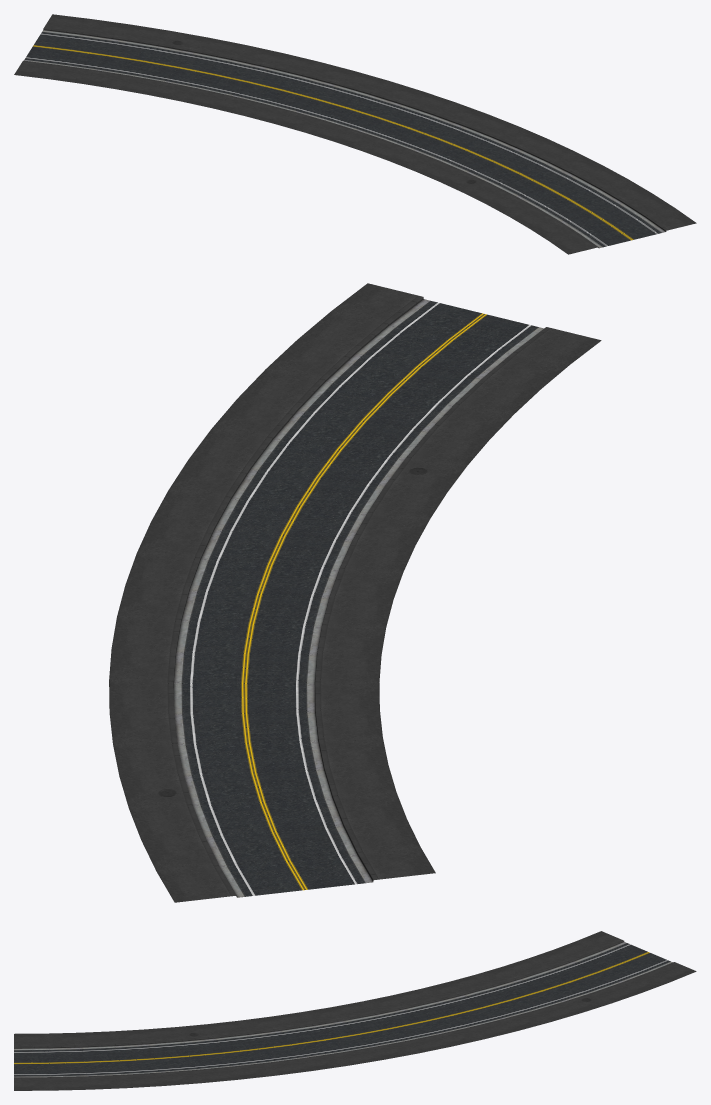
The model's file is city_road_US_cont_marking_45left.fbx.
3 renders of one model, top to bottom at view 1: azimuth 30°, elevation 25°; view 2: azimuth 150°, elevation 25°; view 3: azimuth 270°, elevation 25°, orthographic. The views are drawn at different scales.
Parts seen in each view (by area): view 1: obj0; view 2: obj0; view 3: obj0.
Boxes of the visible parts, x1,y1,x2,y2 form: obj0: (14, 14, 696, 254); obj0: (109, 283, 601, 902); obj0: (14, 931, 696, 1090).
Size of the model in its own units: 81.77 by 0.254 by 148.
